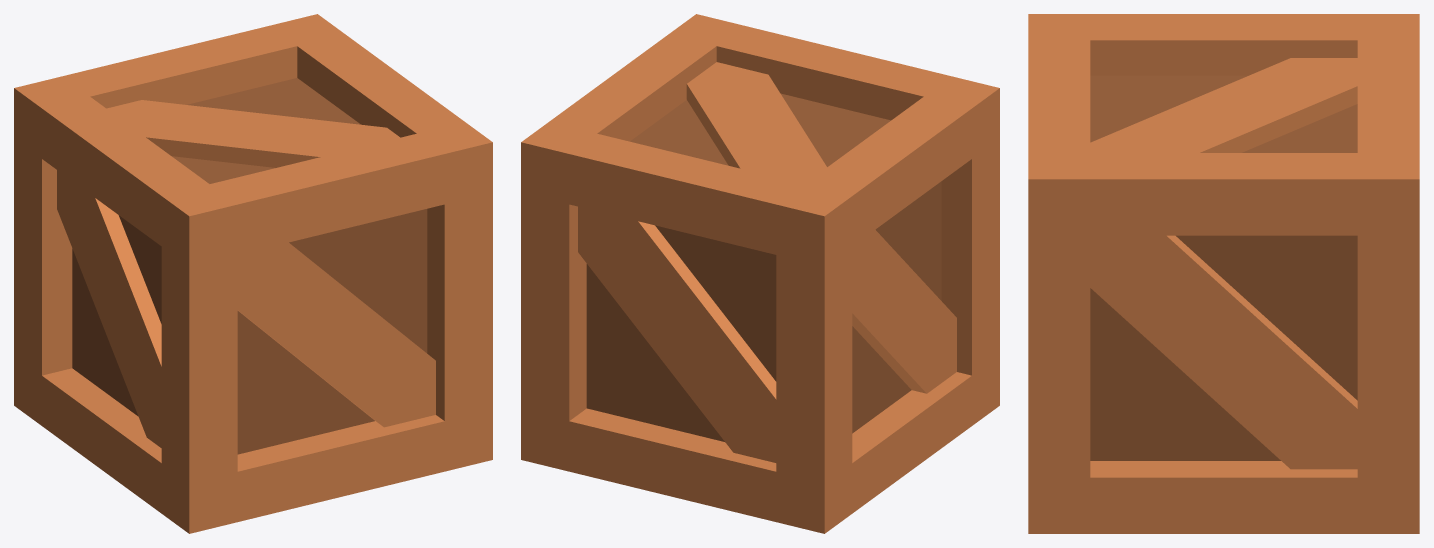
Rendered from crate.dae.
3 views of the same model, side by side, from view 1: azimuth 30°, elevation 25°; view 2: azimuth 150°, elevation 25°; view 3: azimuth 270°, elevation 25° (orthographic). The views are drawn at different scales.
Visible parts, largest first — view 1: crate; view 2: crate; view 3: crate.
Part boxes in pixels (bbox=[...]): crate: bbox=[14, 14, 492, 533]; crate: bbox=[521, 14, 999, 533]; crate: bbox=[1028, 14, 1419, 533].
Size of the model in its own units: 0.5 by 0.5 by 0.5.
